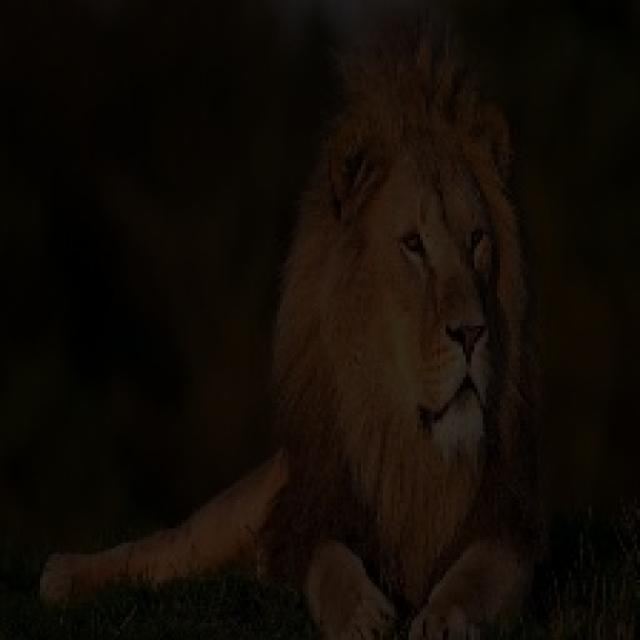bear: (177, 105, 599, 640)
